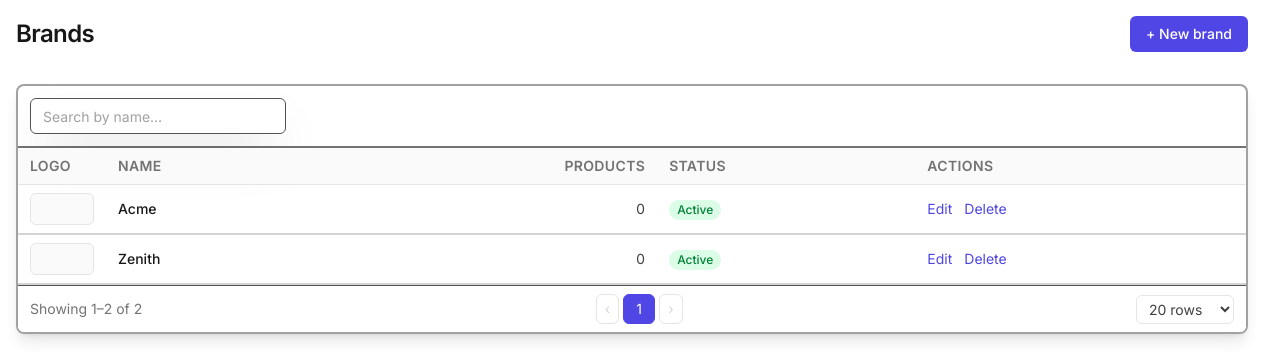
Test case: BrandsPage › filters the list via search
The image size is (1265, 360).
Check: the text "Acme" is shown, box [118,200,157,217]
Type "zen" into the search field named "Search brands" at {"x": 158, "y": 116}, box [30,98,286,134]
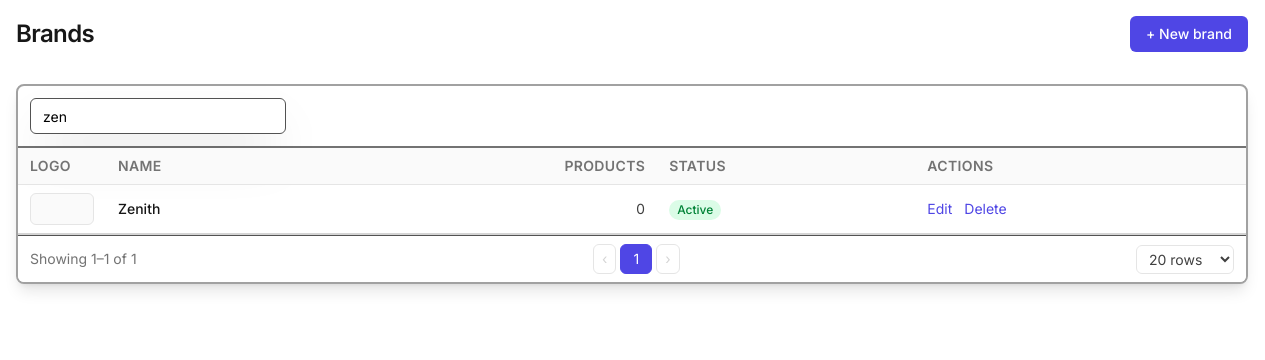
Check: the text "Zenith" is shown, box [118,200,160,217]
Check: the text "Acme" is gone
